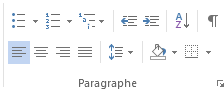texte: (79, 79, 136, 89)
